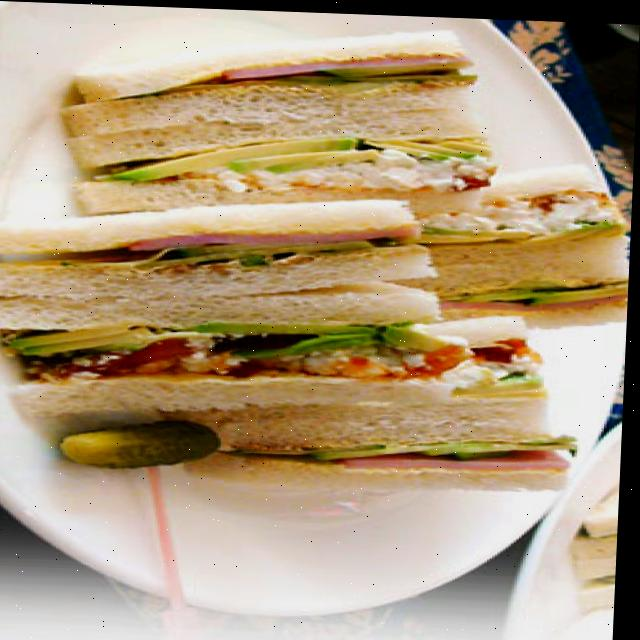三明治: (0, 5, 640, 495)
